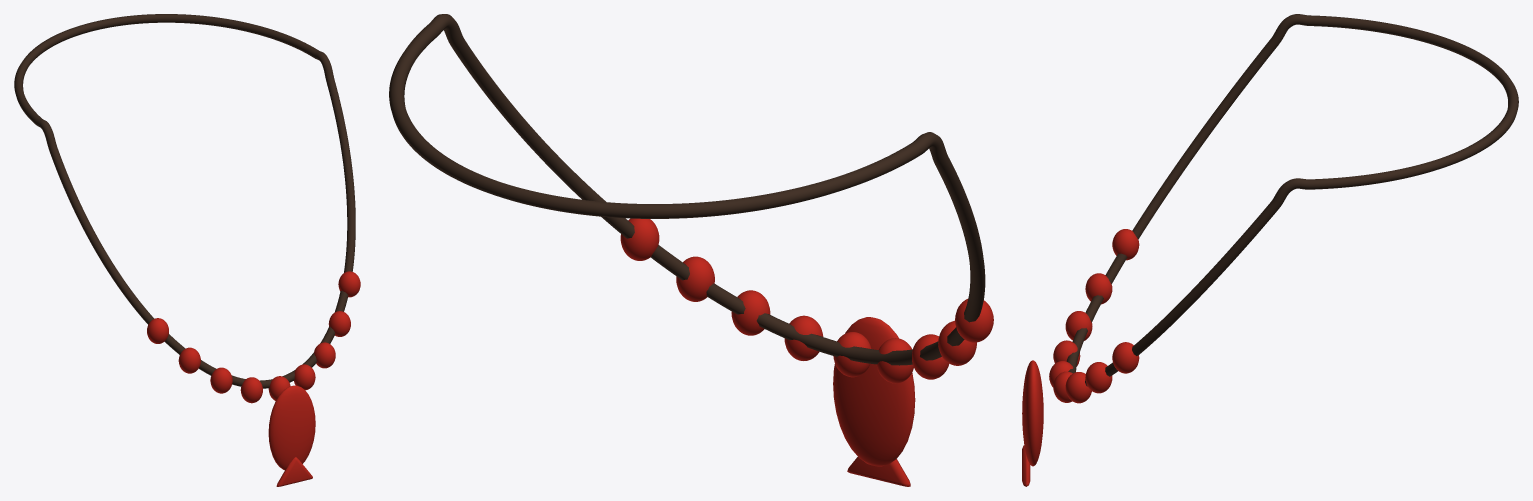
Rendered from accessory-gothic-neck.glb.
3 renders of one model, left to right at view 1: azimuth 30°, elevation 25°; view 2: azimuth 150°, elevation 25°; view 3: azimuth 270°, elevation 25°, orthographic. The views are drawn at different scales.
Visible parts, largest first — view 1: Leather and silver necklace; view 2: Leather and silver necklace; view 3: Leather and silver necklace.
Part boxes in pixels (x1,y1,x2,y2): Leather and silver necklace: (14,14,360,486); Leather and silver necklace: (389,14,993,486); Leather and silver necklace: (1022,14,1518,486).
Bounding box in the file's own units: 0.148 × 0.1555 × 0.184.
